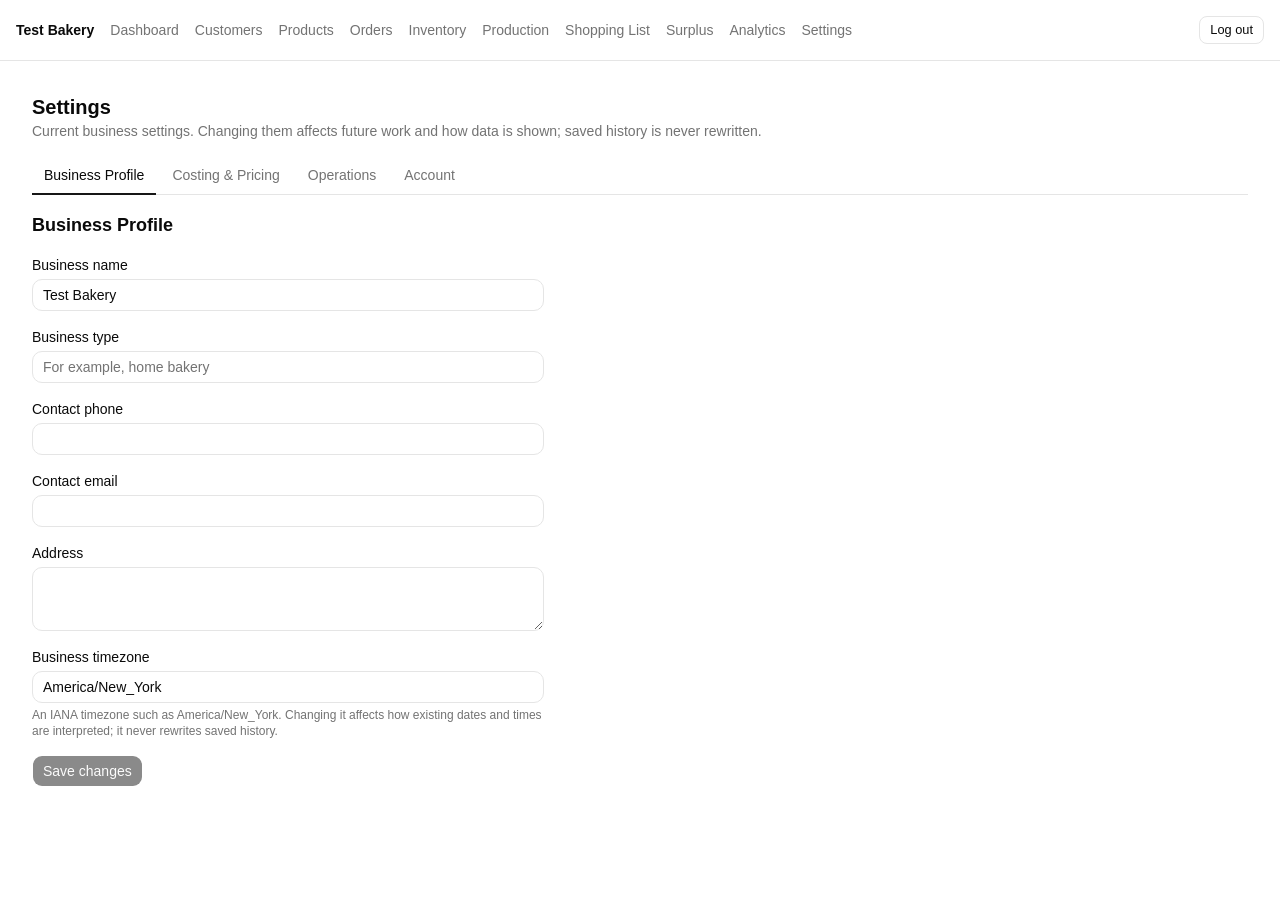
Test case: Business Profile › does not save a timezone change when the confirmation is cancelled
Replace the text in the field labelled "Business timezone" with "Asia/Kolkata" at (288, 687), box 32,671 -> 544,703
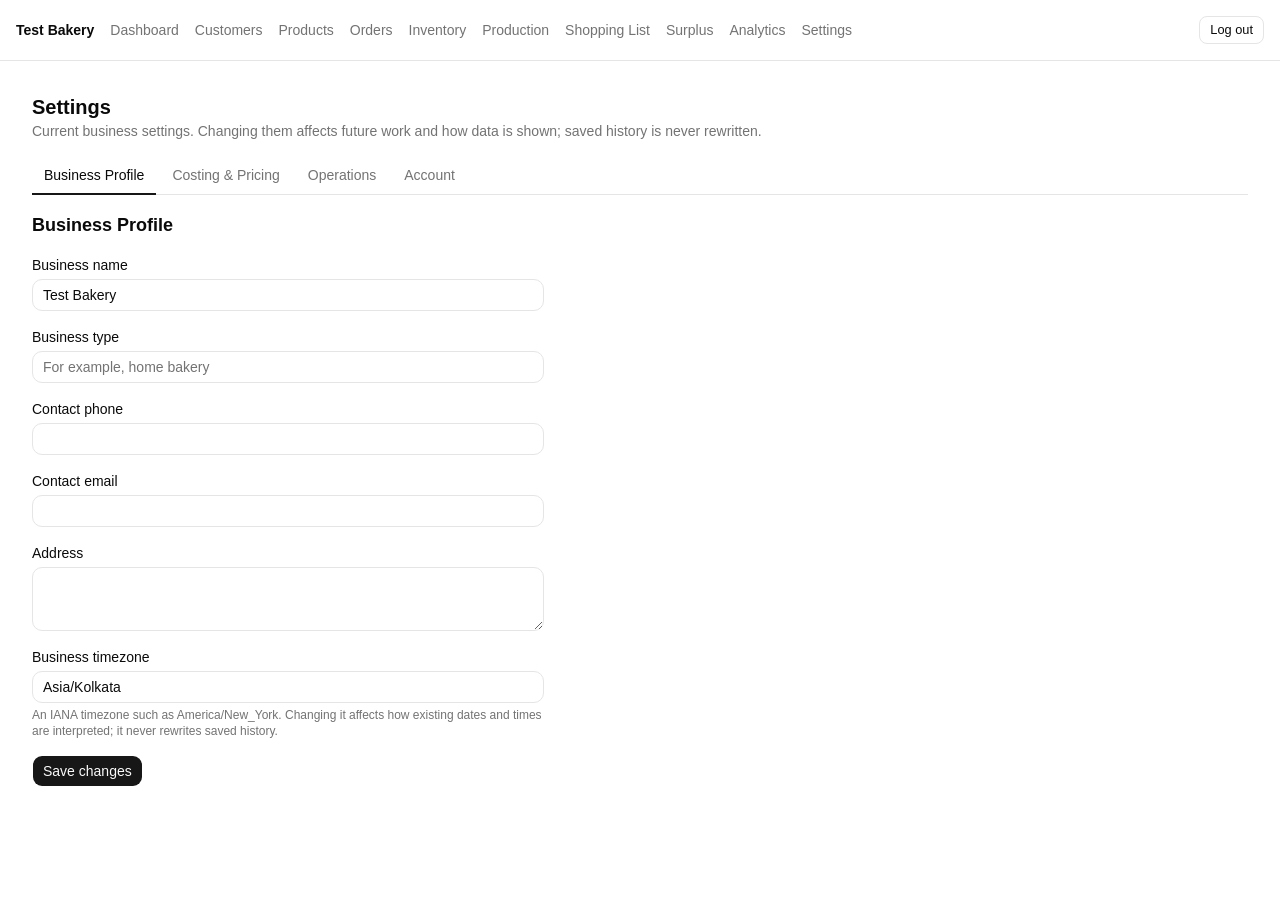
Click the button "Save changes".
click(87, 771)  # box 32,755 -> 143,787
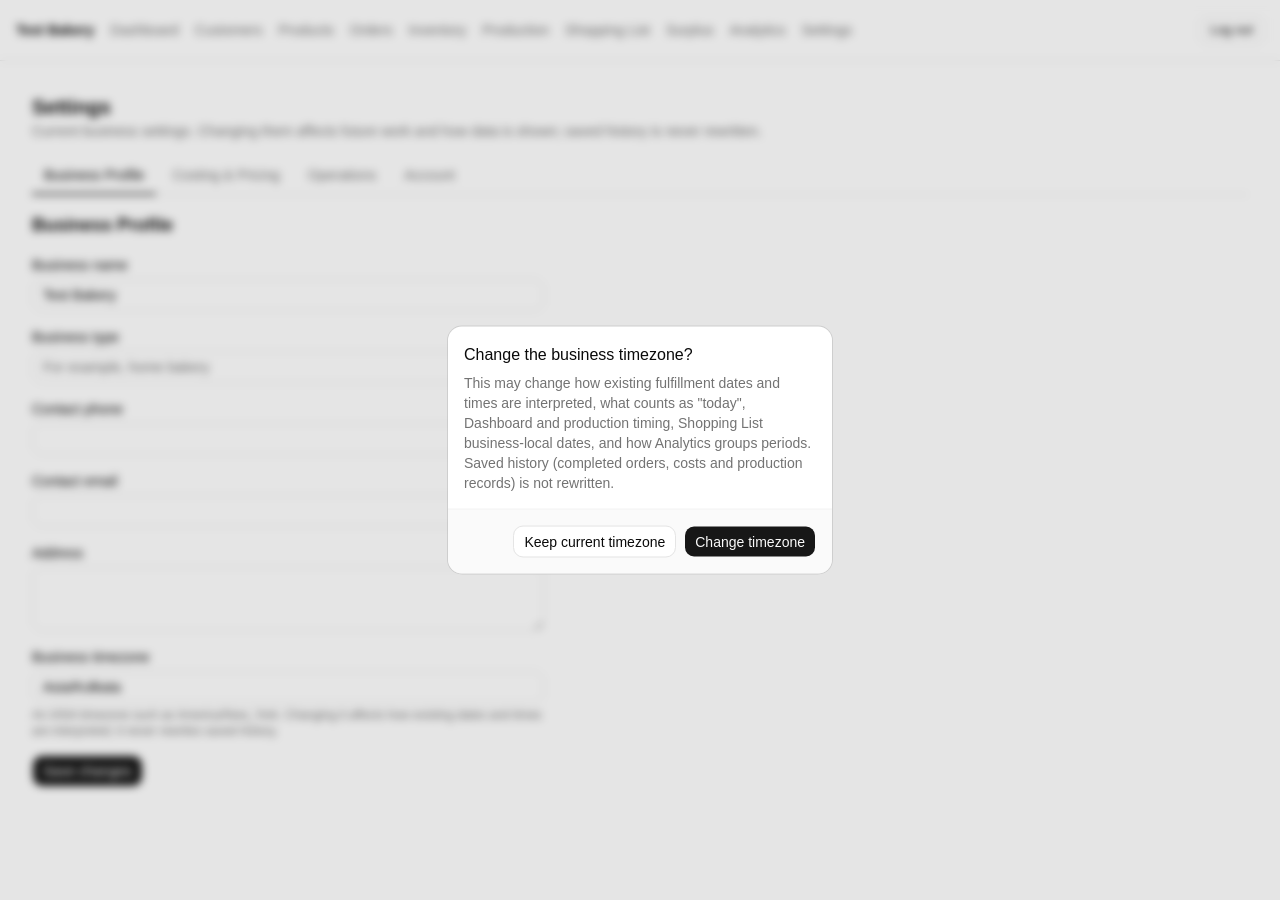
Click the button "Keep current timezone".
click(595, 542)  # box 513,526 -> 676,558
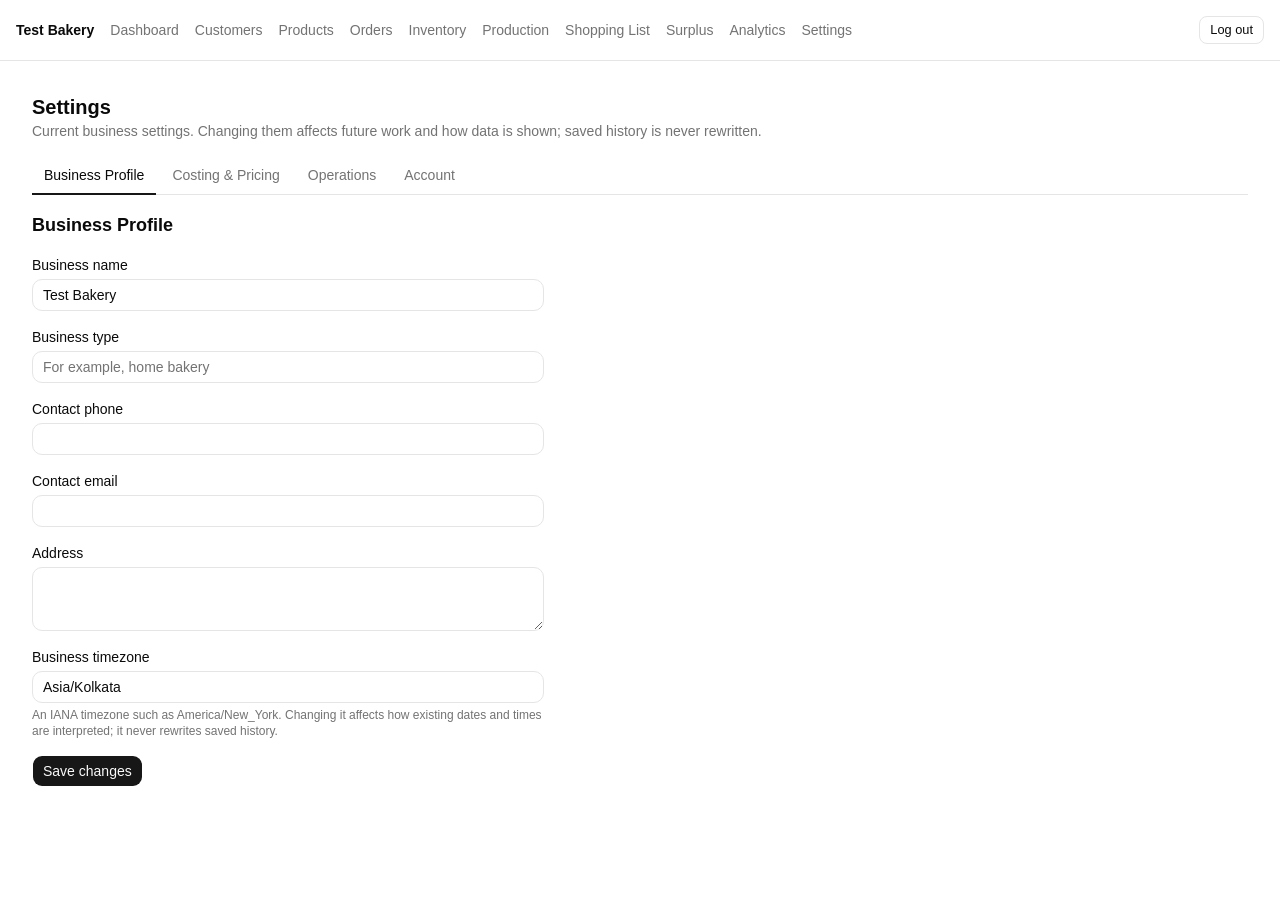
Expected: the dialog is gone
